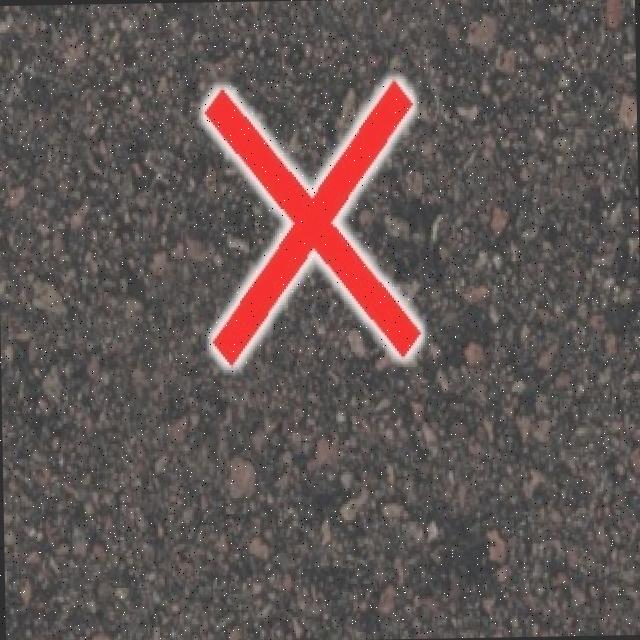x_marker: (203, 80, 420, 363)
